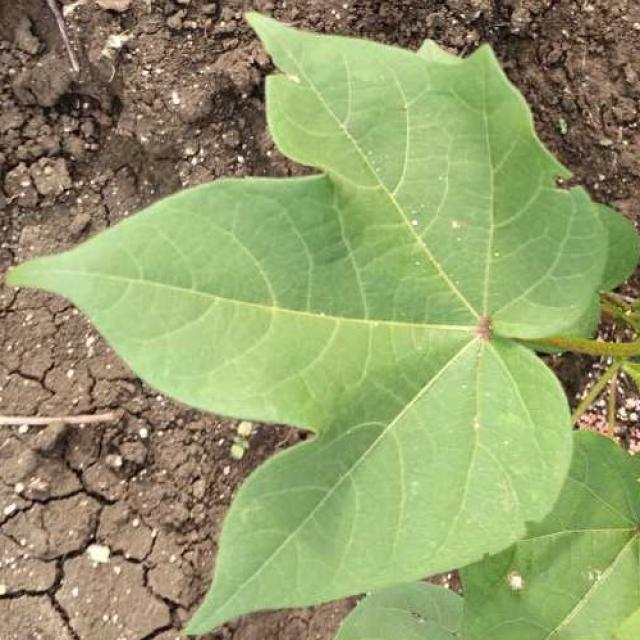Healthy Leaf: (30, 20, 640, 640)
